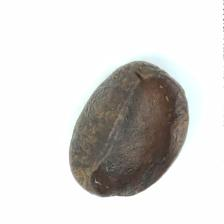NG: (96, 63, 186, 199)
